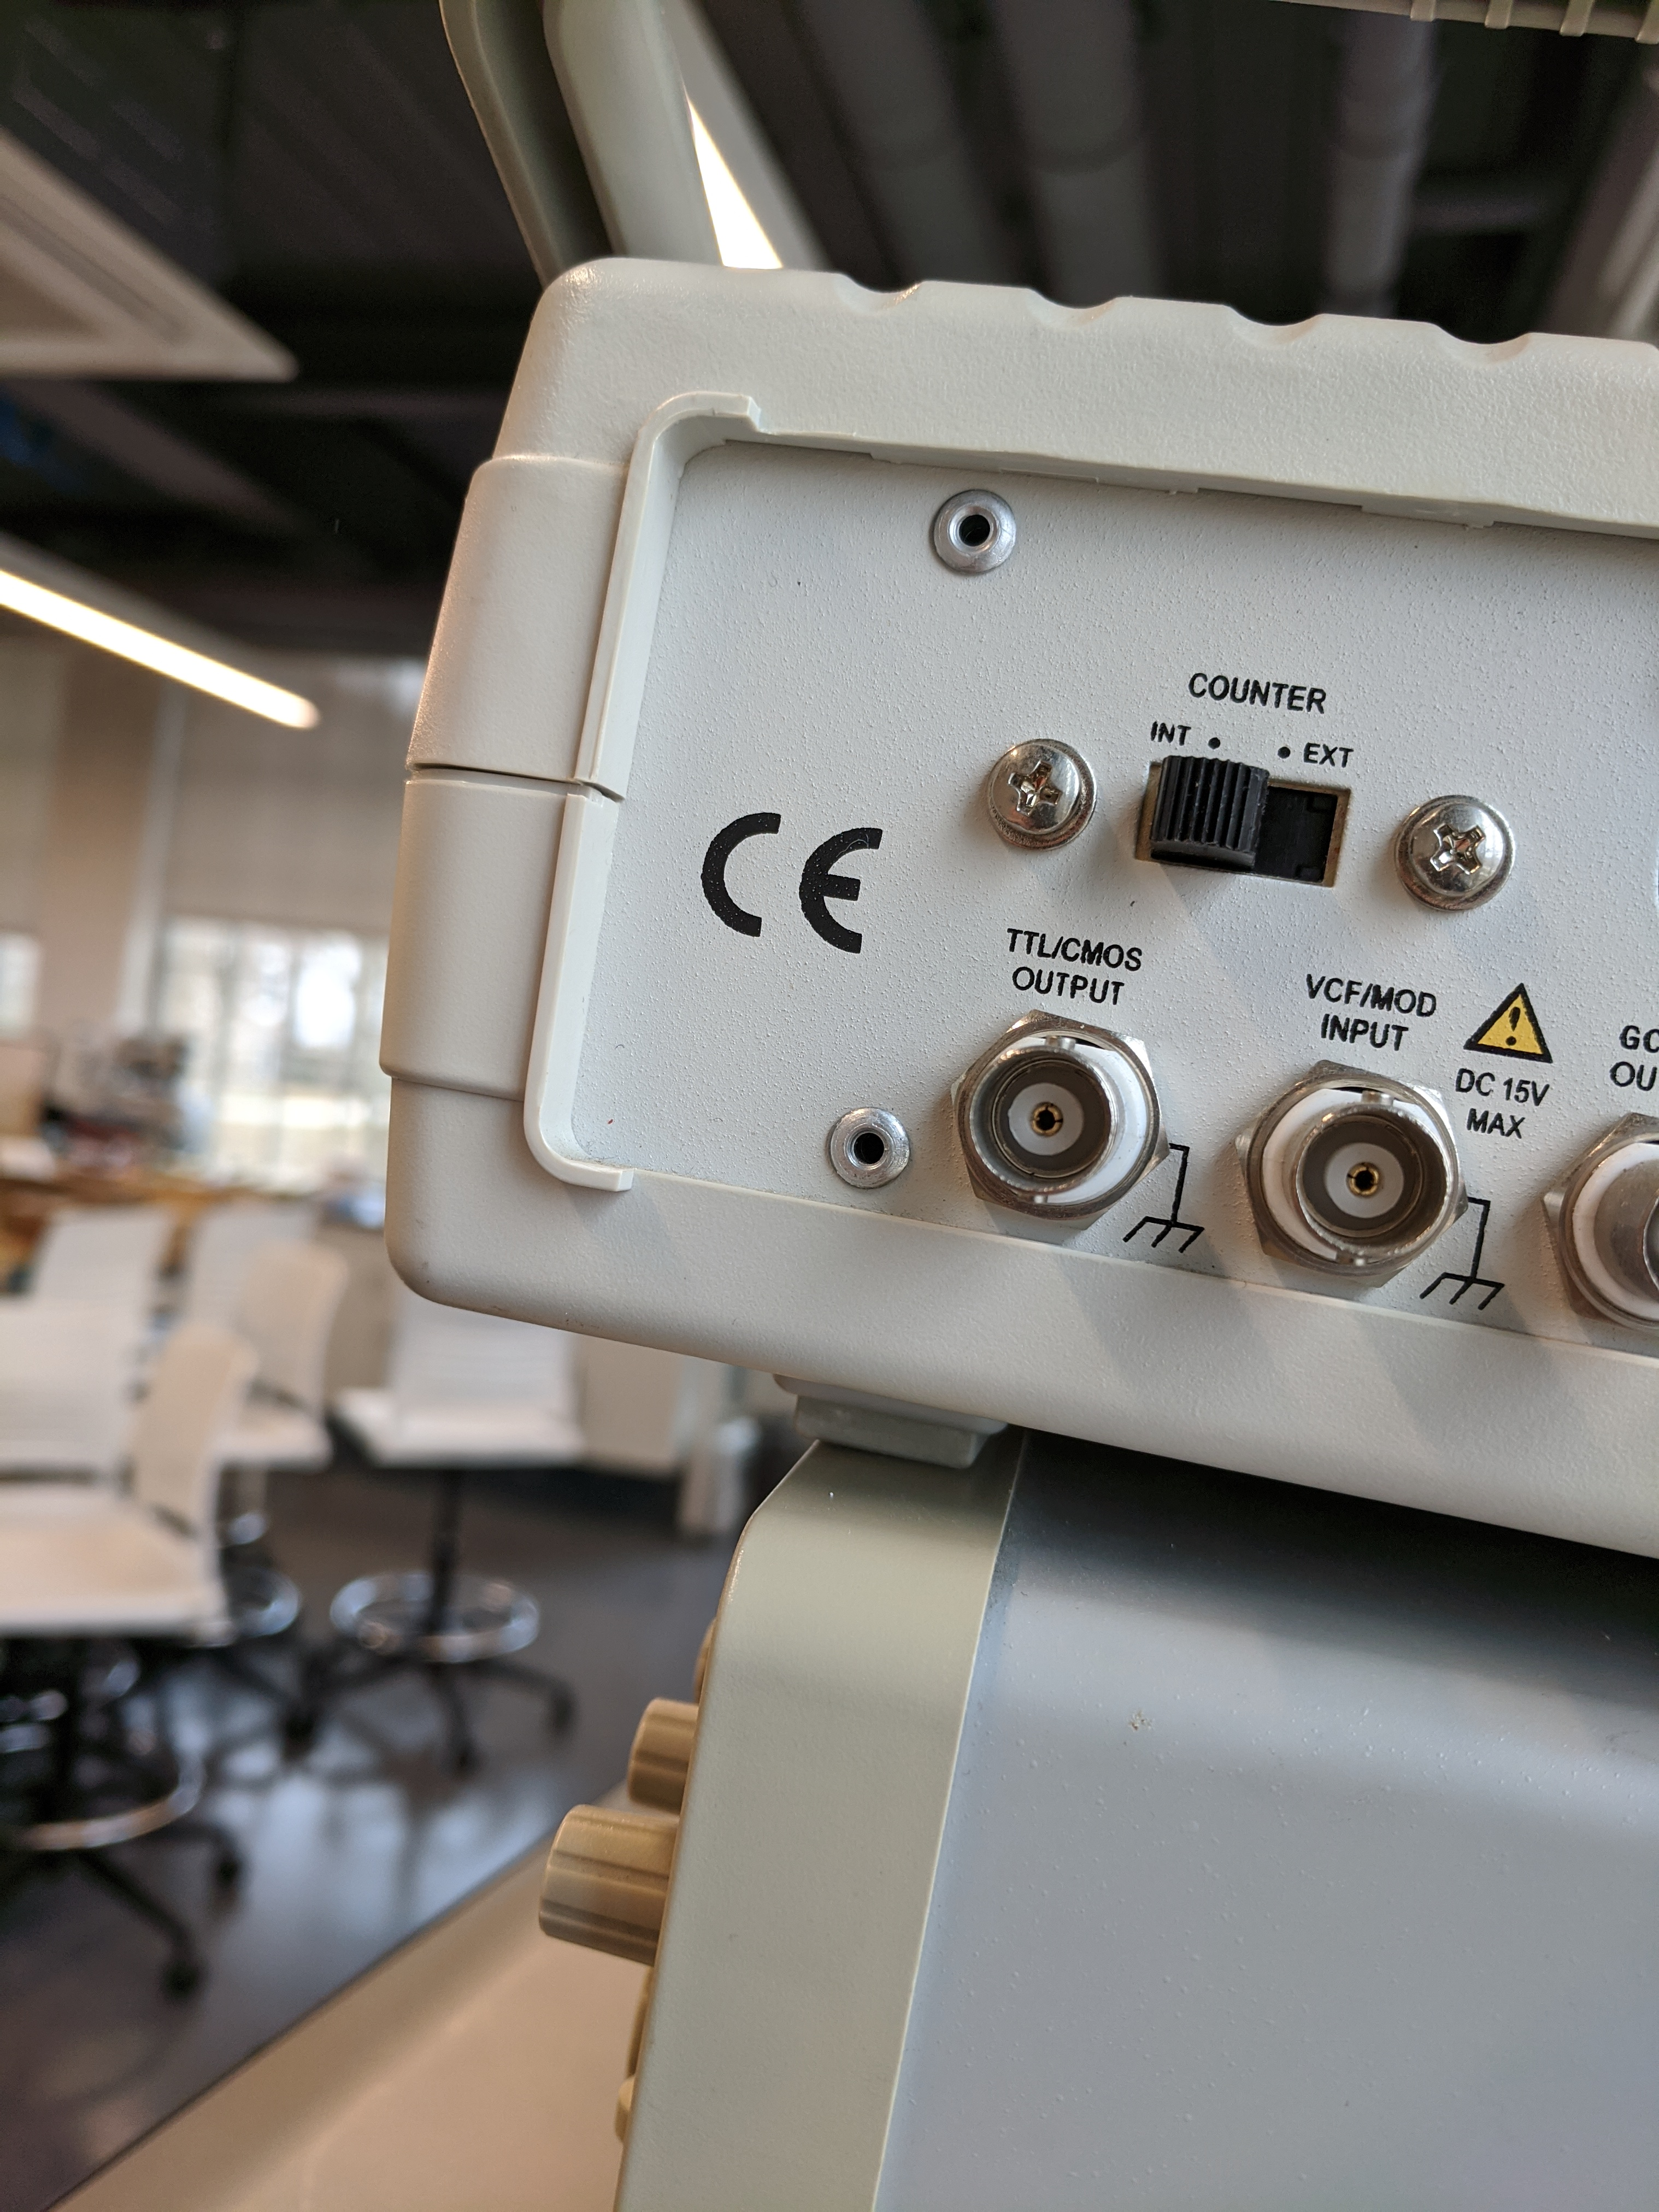cross_recessed_screw: (971, 714, 1094, 873), (1387, 775, 1521, 918)
